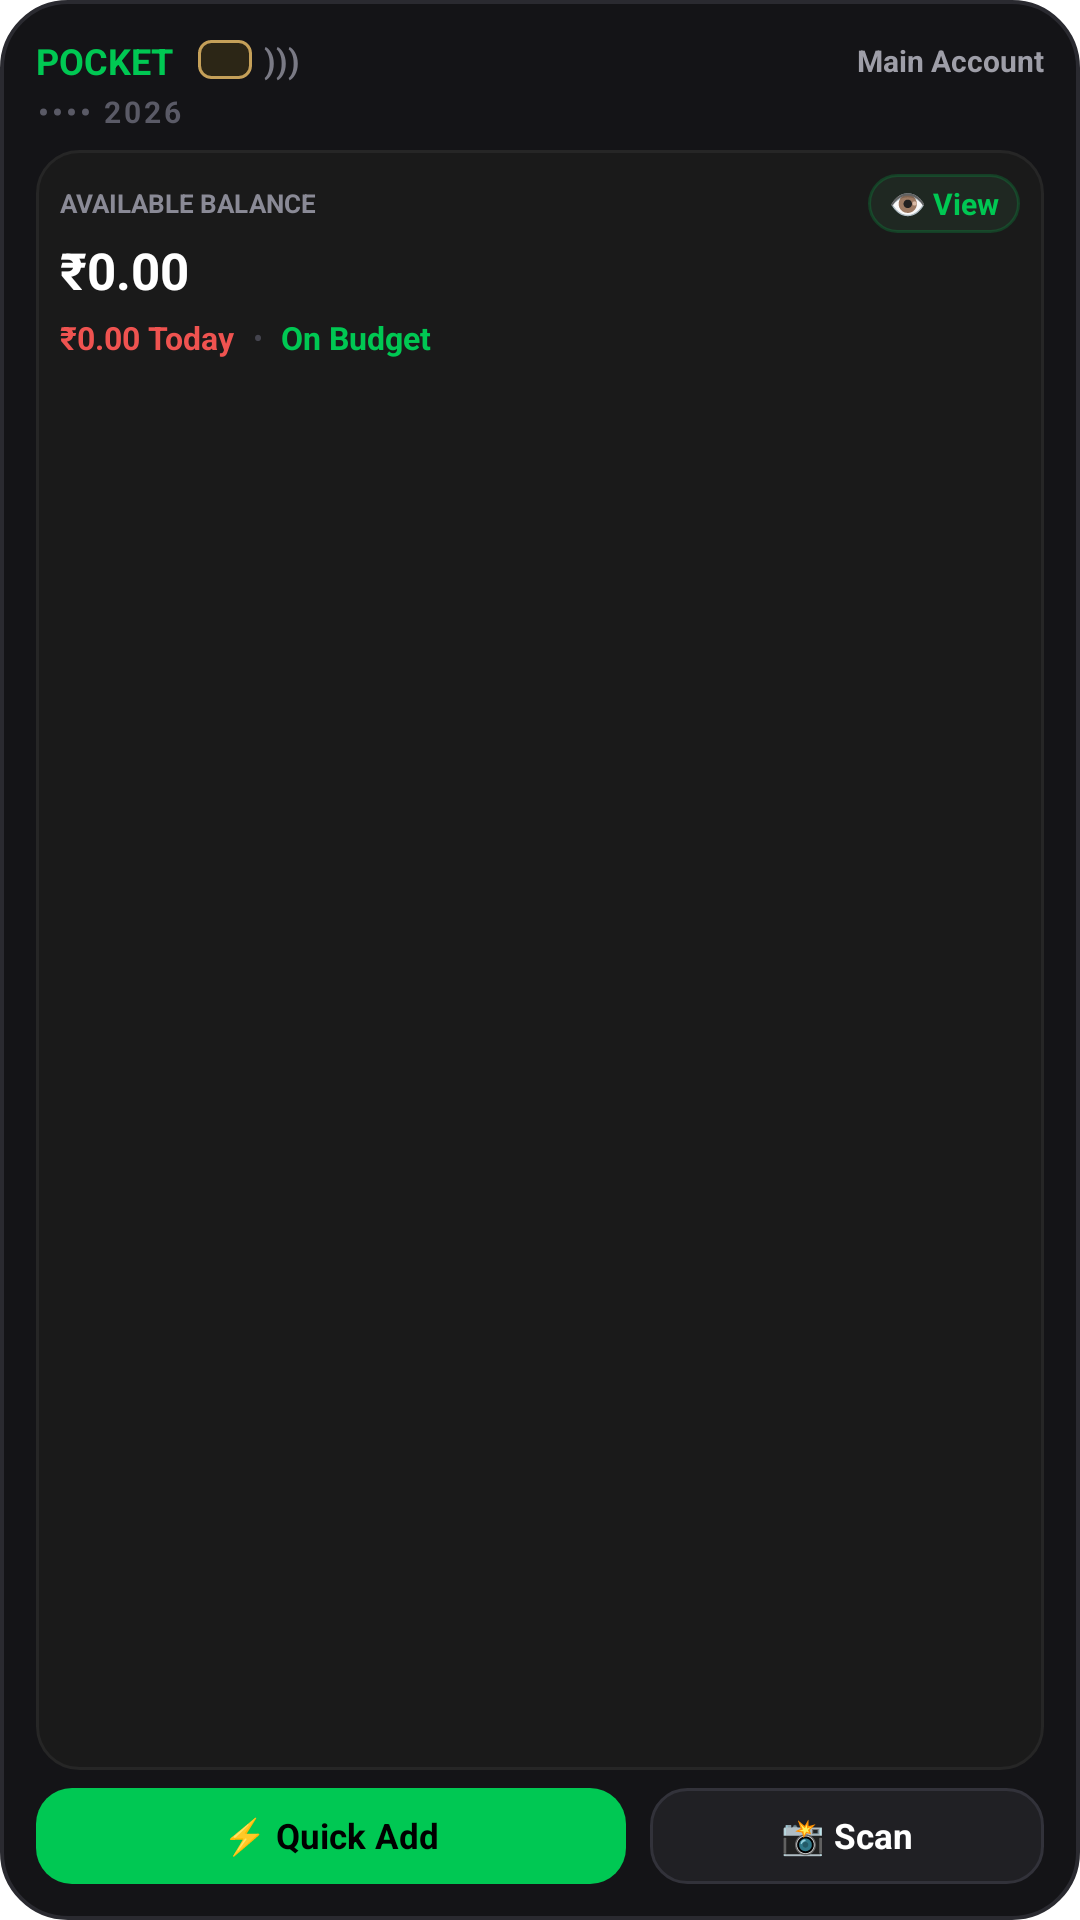

Icons on this 1080w x 1920h Android screen, each with its box as {"x1": x1, "y1": y1, "x2": x2, "y2": y2}:
widget chip emv: {"x1": 198, "y1": 40, "x2": 252, "y2": 79}
